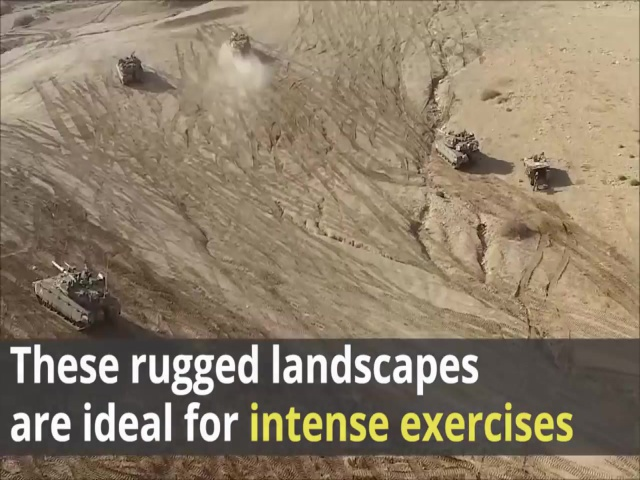vehicle: (33, 265, 123, 332), (431, 128, 481, 168), (520, 150, 554, 192), (116, 55, 148, 86), (228, 31, 253, 62)
